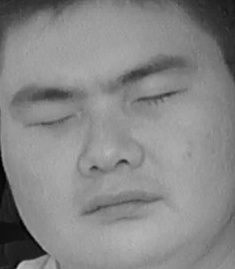blink: (24, 107, 78, 142), (134, 80, 184, 112)
mouth: (81, 184, 165, 227)
